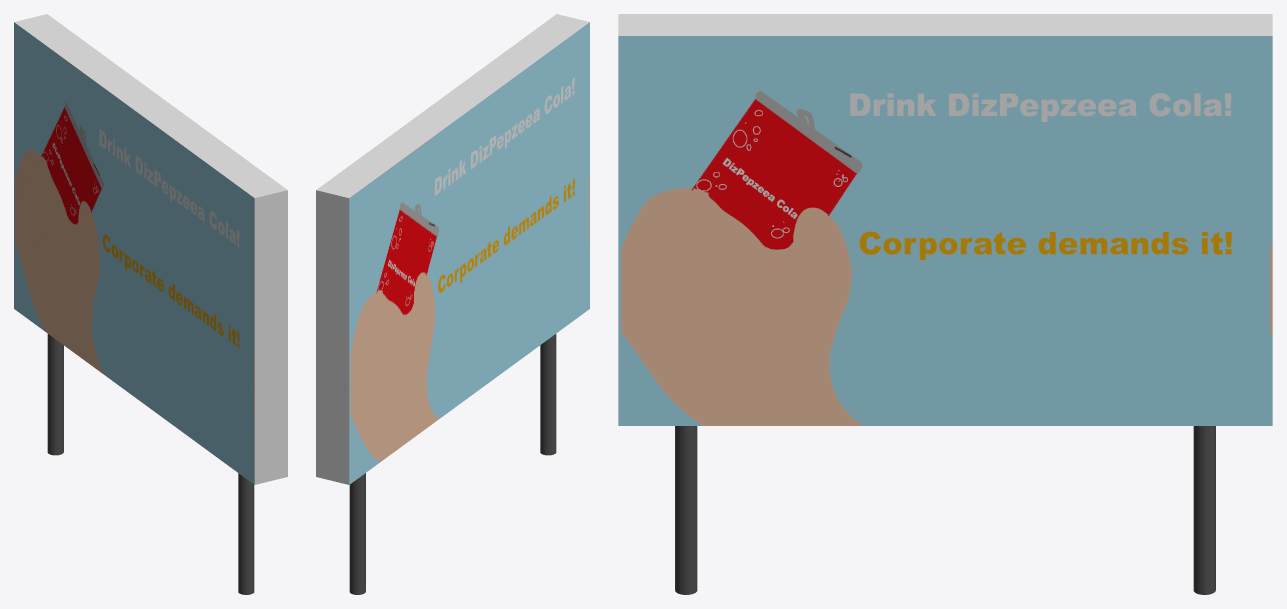
Rendered from Billboard2.fbx.
3 renders of one model, left to right at view 1: azimuth 30°, elevation 25°; view 2: azimuth 150°, elevation 25°; view 3: azimuth 270°, elevation 25°, orthographic. The views are drawn at different scales.
Parts seen in each view (by area): view 1: Cube; view 2: Cube; view 3: Cube.
Part boxes in pixels (x1,y1,x2,y2): Cube: [14, 14, 287, 594]; Cube: [316, 14, 589, 594]; Cube: [618, 14, 1272, 594].
Size of the model in its own units: 1760 by 140 by 1677.
Materials: 3 (1 with a texture image).
